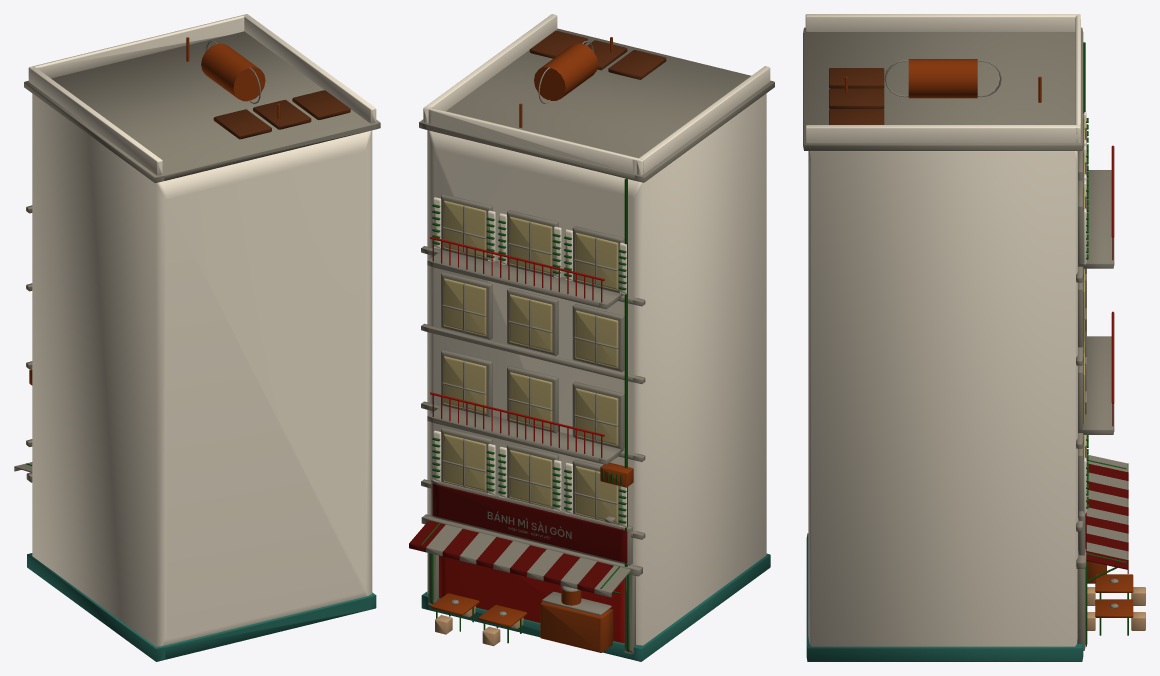
The model's file is PV_StreetShop07.fbx.
The picture shows the model from 3 angles, left to right: view 1: azimuth 30°, elevation 25°; view 2: azimuth 150°, elevation 25°; view 3: azimuth 270°, elevation 25°; orthographic projection. The views are drawn at different scales.
Parts seen in each view (by area): view 1: PV_StreetShop07_LOD0; view 2: PV_StreetShop07_LOD0; view 3: PV_StreetShop07_LOD0.
Boxes of the visible parts, left/top/right/bottom form: PV_StreetShop07_LOD0: left=14, top=14, right=380, bottom=661; PV_StreetShop07_LOD0: left=409, top=14, right=774, bottom=661; PV_StreetShop07_LOD0: left=803, top=14, right=1145, bottom=661.
Size of what is drawn, in the model's own units: 8.05 by 17.9 by 9.91.
Materials: 1 (1 with a texture image).
